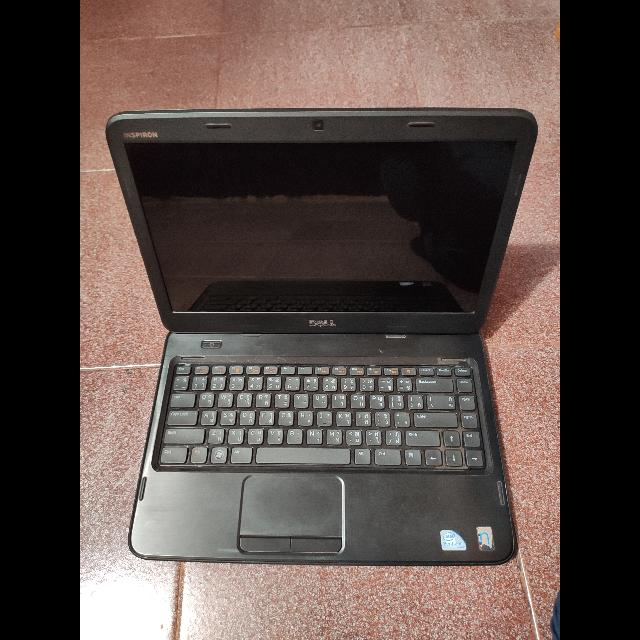Laptop: (155, 26, 510, 612)
